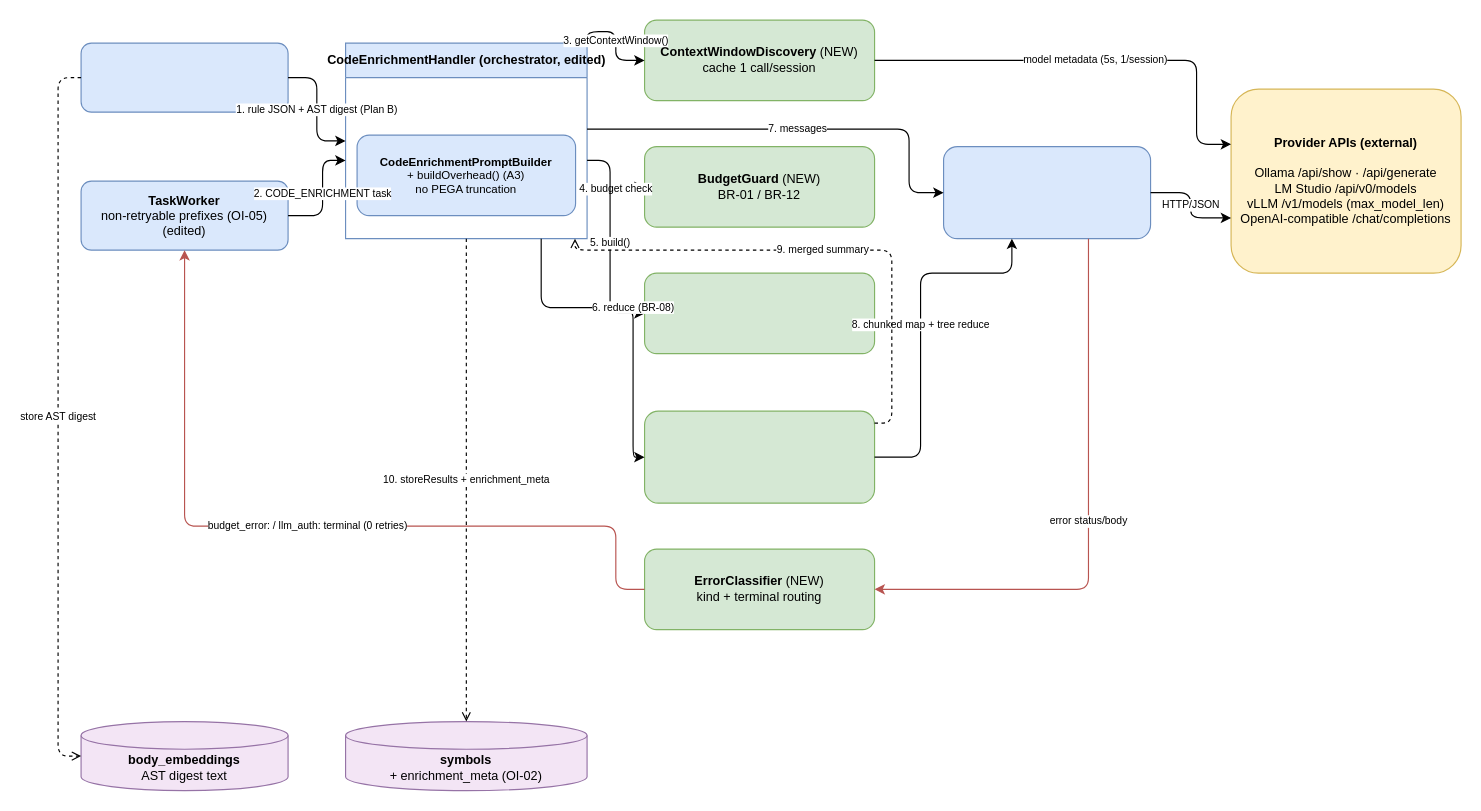
Image size: 1481x811. Some labels were removed from this diagram. The box of each missing label's shape, as (x1, y1, x2, y2) in pixels:
AstDigestBuilder (NEW) EF-2.1 fallback: (643, 272, 875, 354)
LLMService (edited) + getContextWindow(): (942, 145, 1151, 239)
PegaSymbolSync Plan B: AST digest (edited): (80, 42, 288, 112)
ReductionPipeline (NEW) chunkedReduce · MapReduce (BR-09/10): (643, 410, 875, 503)
